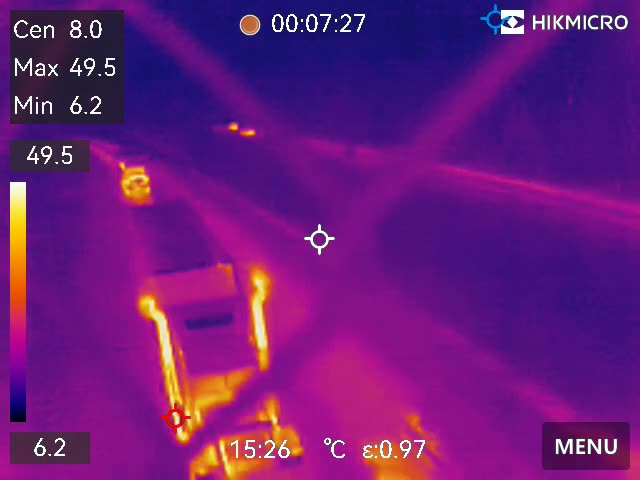heavyTruck: (122, 206, 302, 463)
vehicle: (115, 164, 158, 204)
